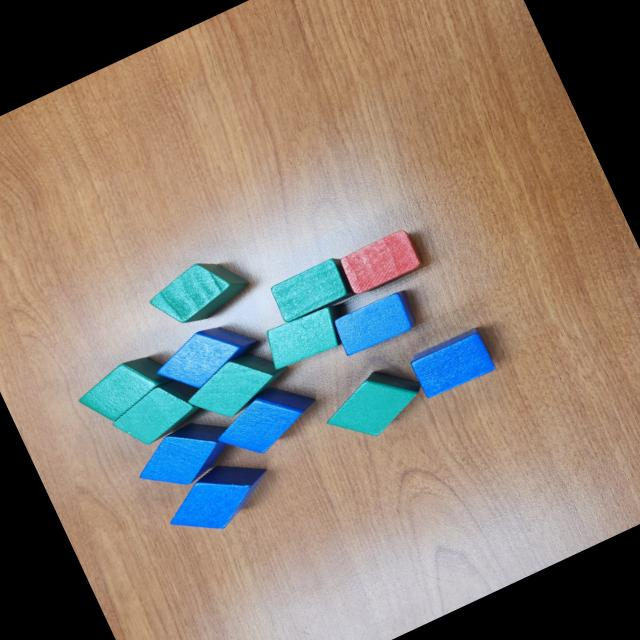blue: (155, 447, 283, 549), (146, 309, 268, 404), (208, 370, 326, 468), (128, 408, 245, 502), (408, 325, 500, 402), (328, 286, 422, 361)
green: (315, 355, 434, 454), (138, 246, 256, 340), (180, 338, 298, 432), (72, 346, 180, 431), (105, 372, 210, 456), (258, 295, 360, 375), (266, 254, 356, 327)
red: (336, 226, 427, 299)
